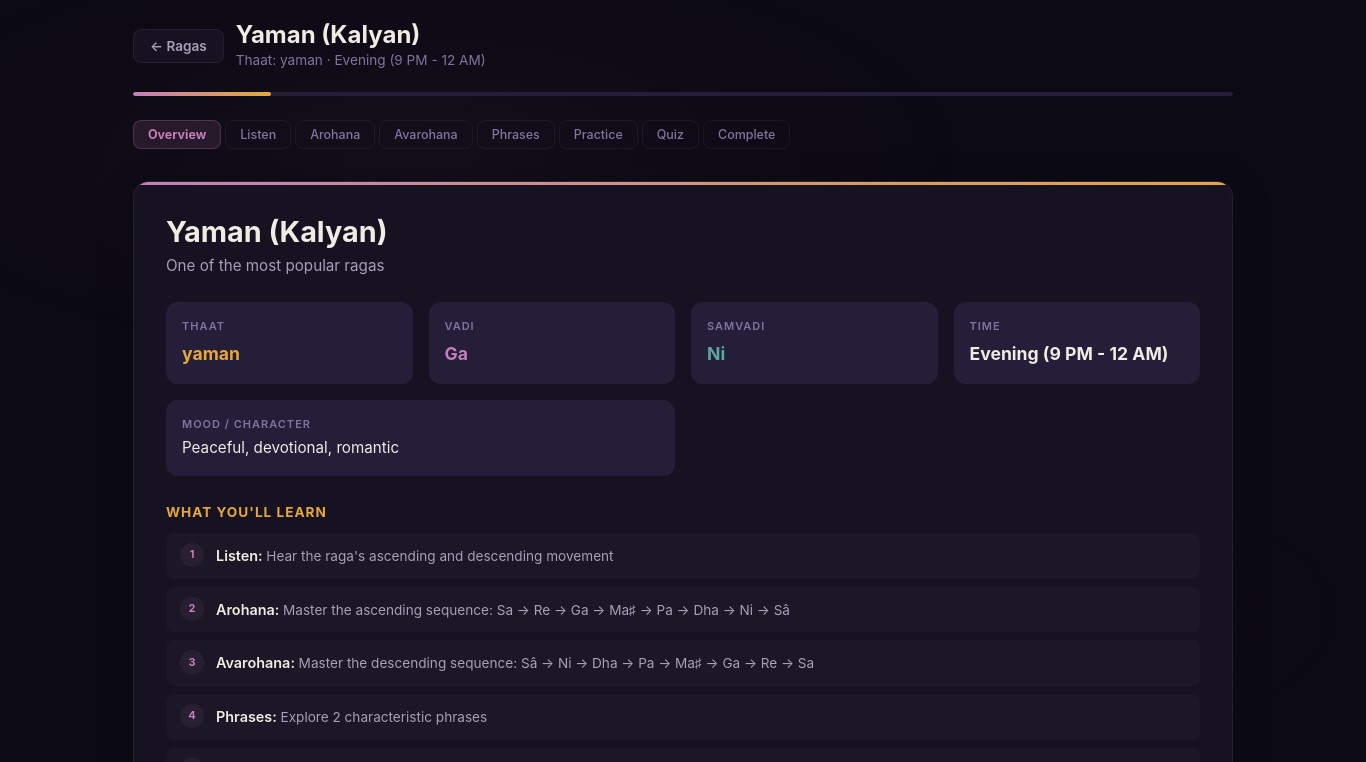
Scenario: RagaLearning › complete phase shows completion UI
Click the button "Complete" at (747, 134), box x1=703 y1=120 x2=790 y2=149
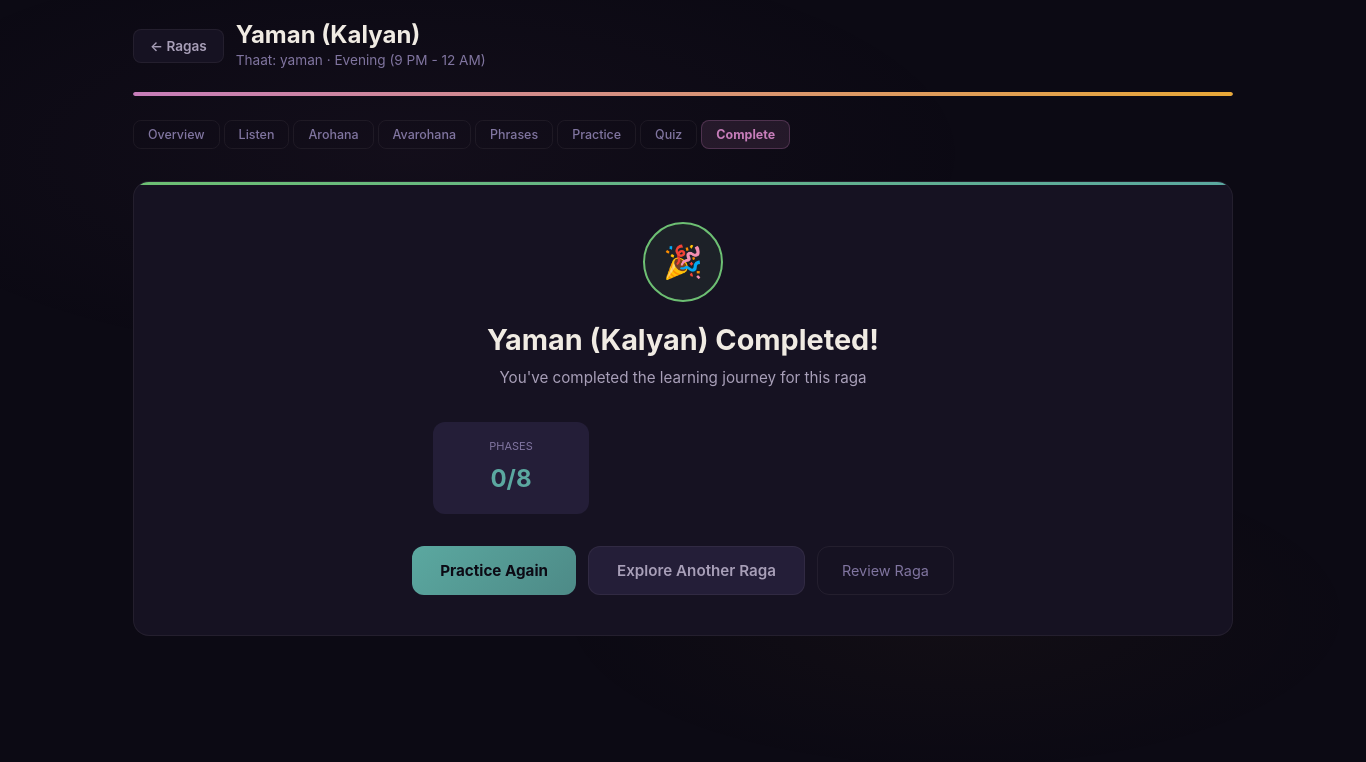
expect the heading "Yaman (Kalyan) Completed!" is shown: met, box x1=487 y1=322 x2=879 y2=357
expect the button "Practice Again" is shown: met, box x1=412 y1=546 x2=576 y2=595
expect the button "Explore Another Raga" is shown: met, box x1=588 y1=546 x2=805 y2=595
